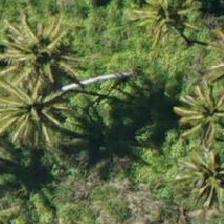coconut_tree: (0, 74, 82, 164), (0, 0, 83, 88), (156, 68, 223, 158), (162, 124, 223, 214), (121, 0, 211, 58)
